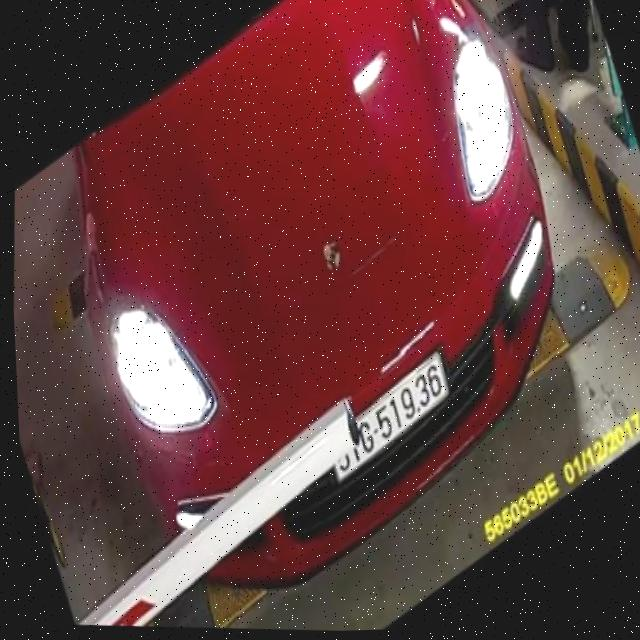car: (43, 0, 585, 616)
plate: (318, 347, 459, 491)
